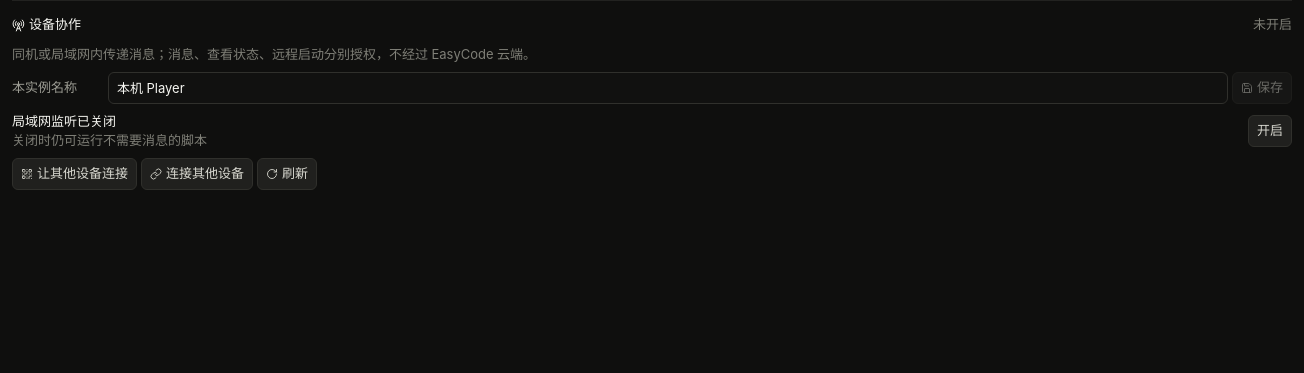
Scenario: VNextPlayerDevices › keeps ordinary device inputs in compact rows and combines address with port
The width and height of the screenshot is (1304, 373).
Expected: the text "本实例名称" is shown, [12,79,77,95]
Expected: the field labelled "本实例名称 保存" is shown, [108,72,1228,104]
Click the button "连接其他设备". click: coordinates (197, 174)
box: [141,158,253,190]
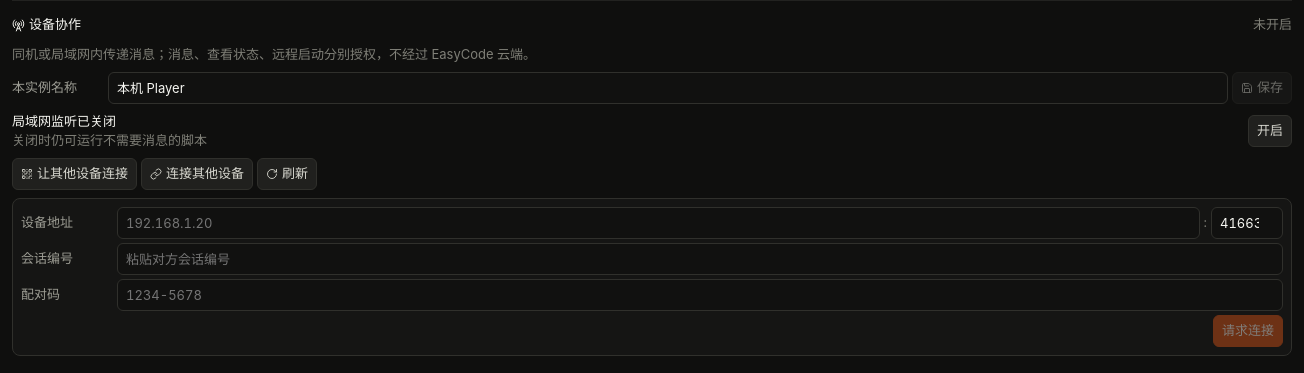
Result: the text "设备地址" is shown at [21,214,73,230]
Result: the number field with class "connect-port" holds "41663" at [1211,207,1283,239]
